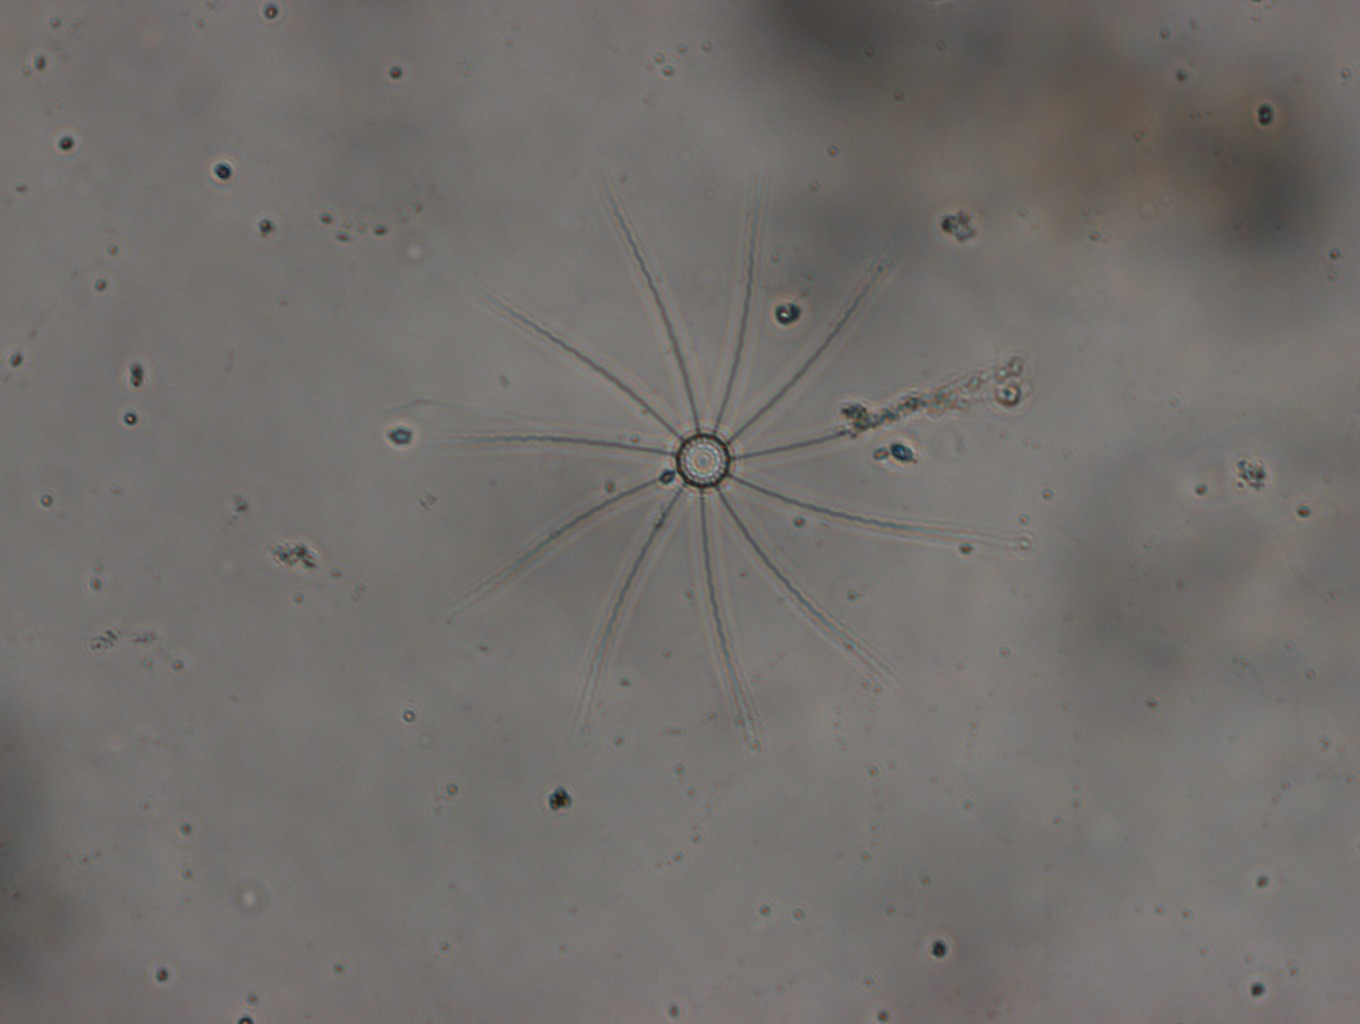bacteriastrum: (453, 190, 994, 739)
